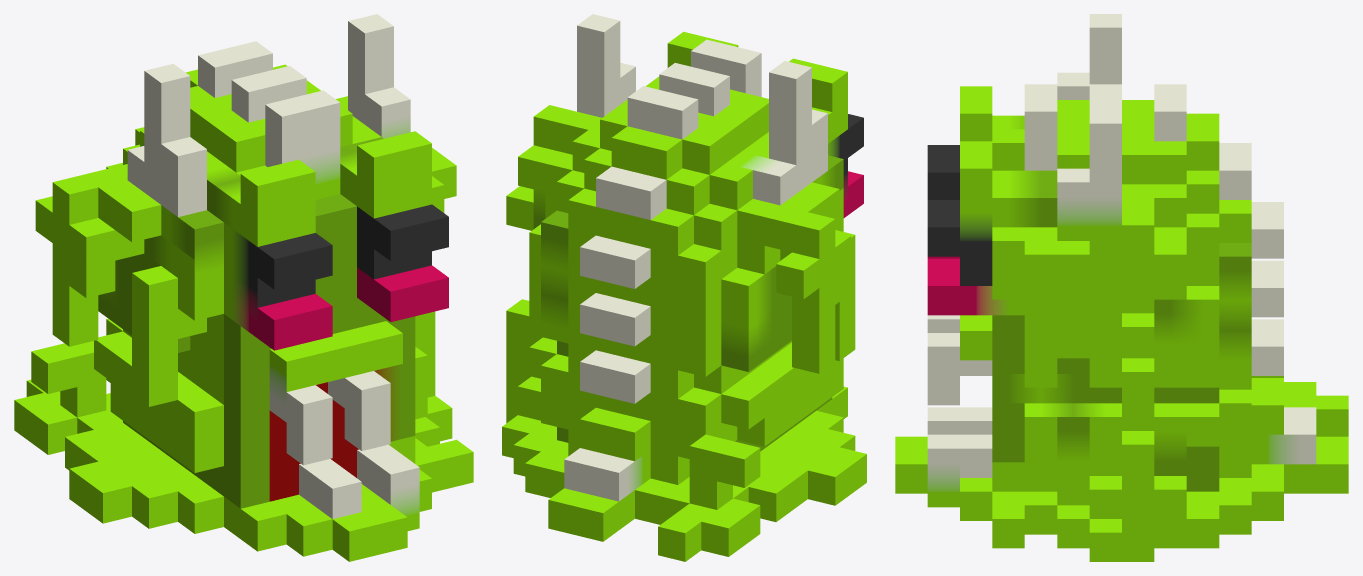
Rendered from Green_Enemy.dae.
The picture shows the model from 3 angles, left to right: view 1: azimuth 30°, elevation 25°; view 2: azimuth 150°, elevation 25°; view 3: azimuth 270°, elevation 25°; orthographic projection. The views are drawn at different scales.
Parts seen in each view (by area): view 1: Box; view 2: Box; view 3: Box.
Boxes of the visible parts, x1,y1,x2,y2 form: Box: (14, 14, 473, 561); Box: (502, 14, 866, 561); Box: (895, 14, 1348, 561).
Bounding box in the file's own units: 12 × 14 × 14.
Materials: 1 (1 with a texture image).
